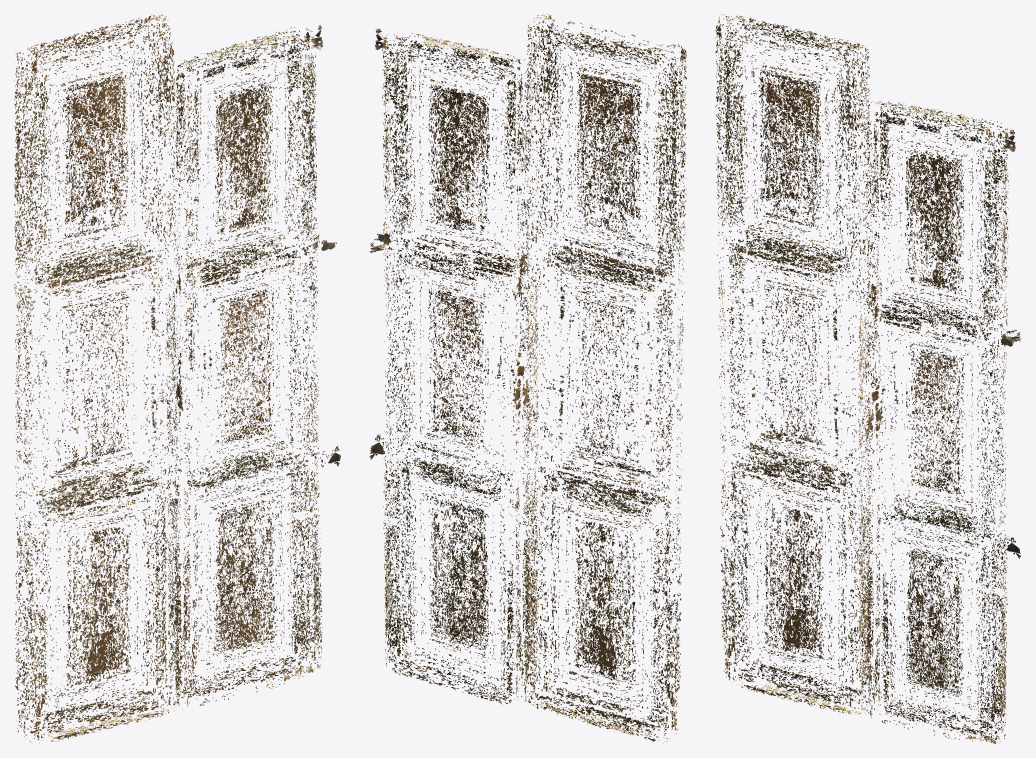
The model's file is puerta-preview.glb.
3 views of the same model, side by side, from view 1: azimuth 30°, elevation 25°; view 2: azimuth 150°, elevation 25°; view 3: azimuth 330°, elevation 25° (orthographic). The views are drawn at different scales.
Visible parts, largest first — view 1: hoja-2, hoja-1; view 2: hoja-2, hoja-1; view 3: hoja-2, hoja-1.
Part boxes in pixels (x1,y1,x2,y2): hoja-2: [14, 14, 180, 743]; hoja-1: [173, 25, 340, 709]; hoja-2: [524, 14, 686, 743]; hoja-1: [369, 28, 535, 704]; hoja-2: [715, 14, 871, 716]; hoja-1: [861, 101, 1020, 743].
Bounding box in the file's own units: 20.1 × 41.88 × 2.02.
Materials: 2 (2 with a texture image).
